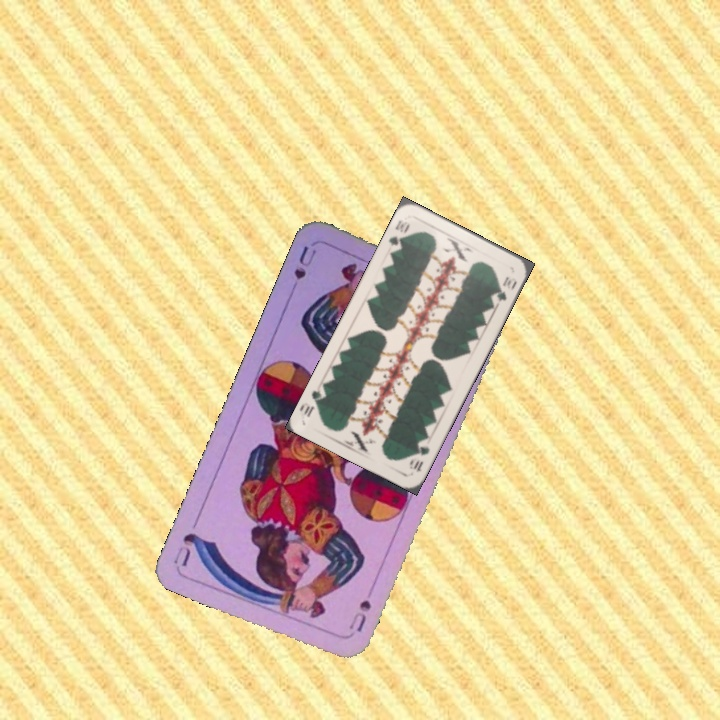G10: (384, 216, 412, 254), (405, 441, 433, 474)
SU: (342, 595, 374, 639), (290, 241, 319, 282)
